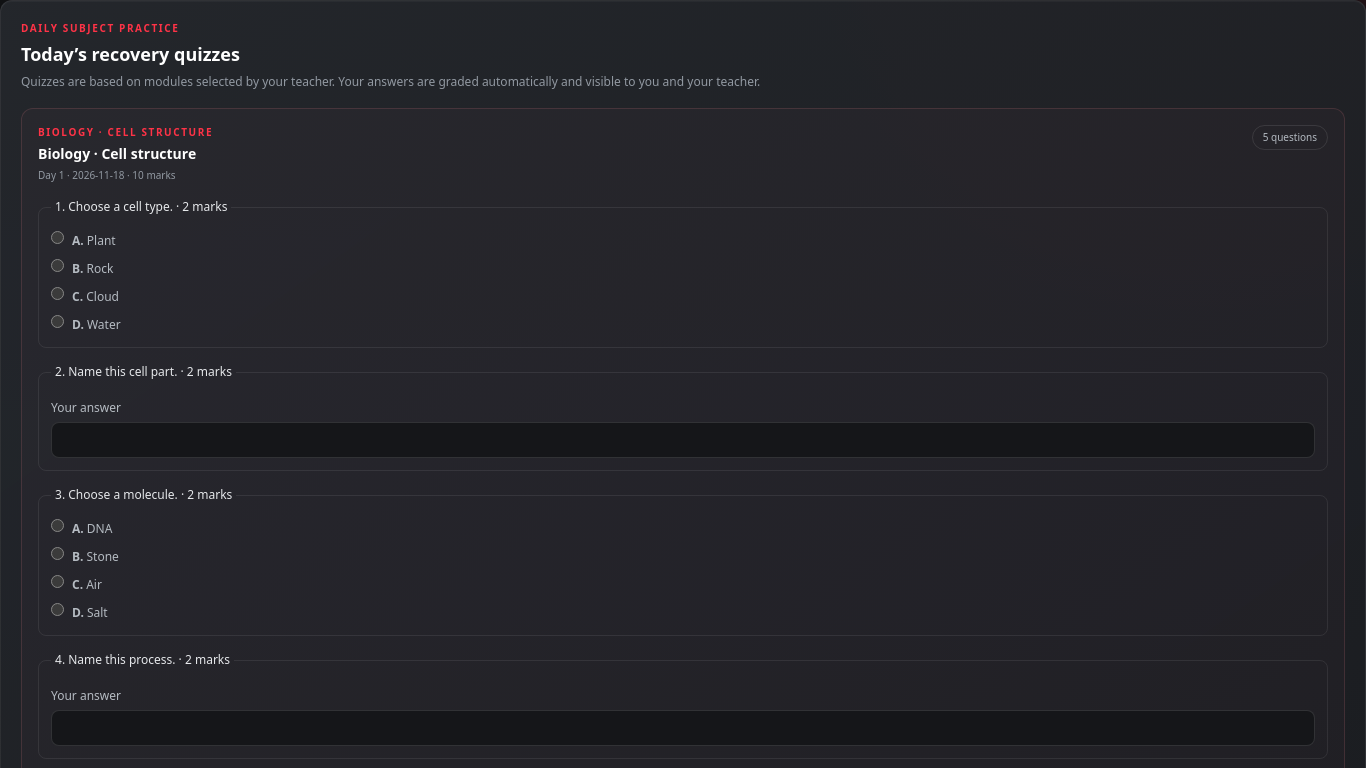
Scenario: student daily recovery quizzes › loads due quizzes, submits answers, and displays the saved auto-grade
The image size is (1366, 768).
Check: the heading "Today’s recovery quizzes" is shown, box [21,42,240,66]
Click the radio button labelled "A. Plant". click: point(58, 238)
box: [51,231,64,244]
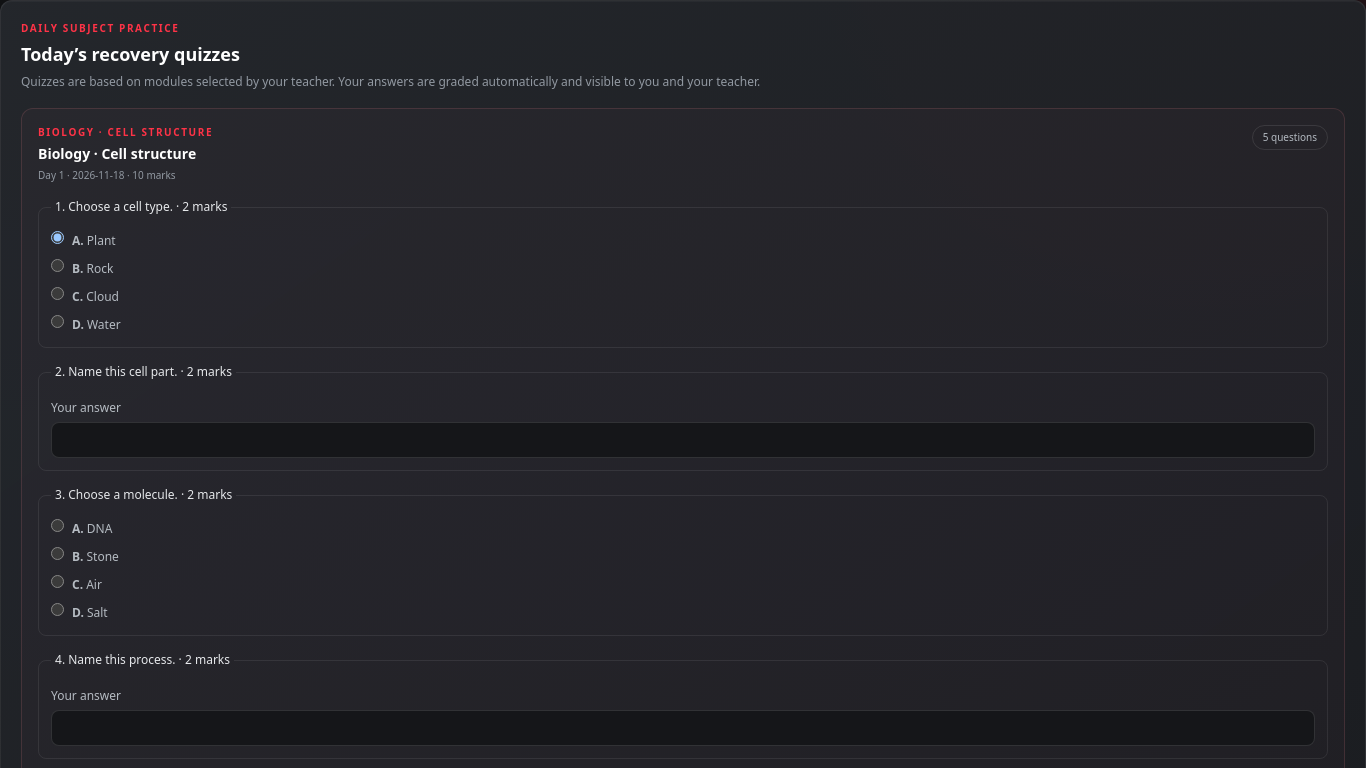
Type "Nucleus" into the field labelled "Your answer" below "Name this cell part.". click: point(683, 440)
box: [51,422,1315,458]
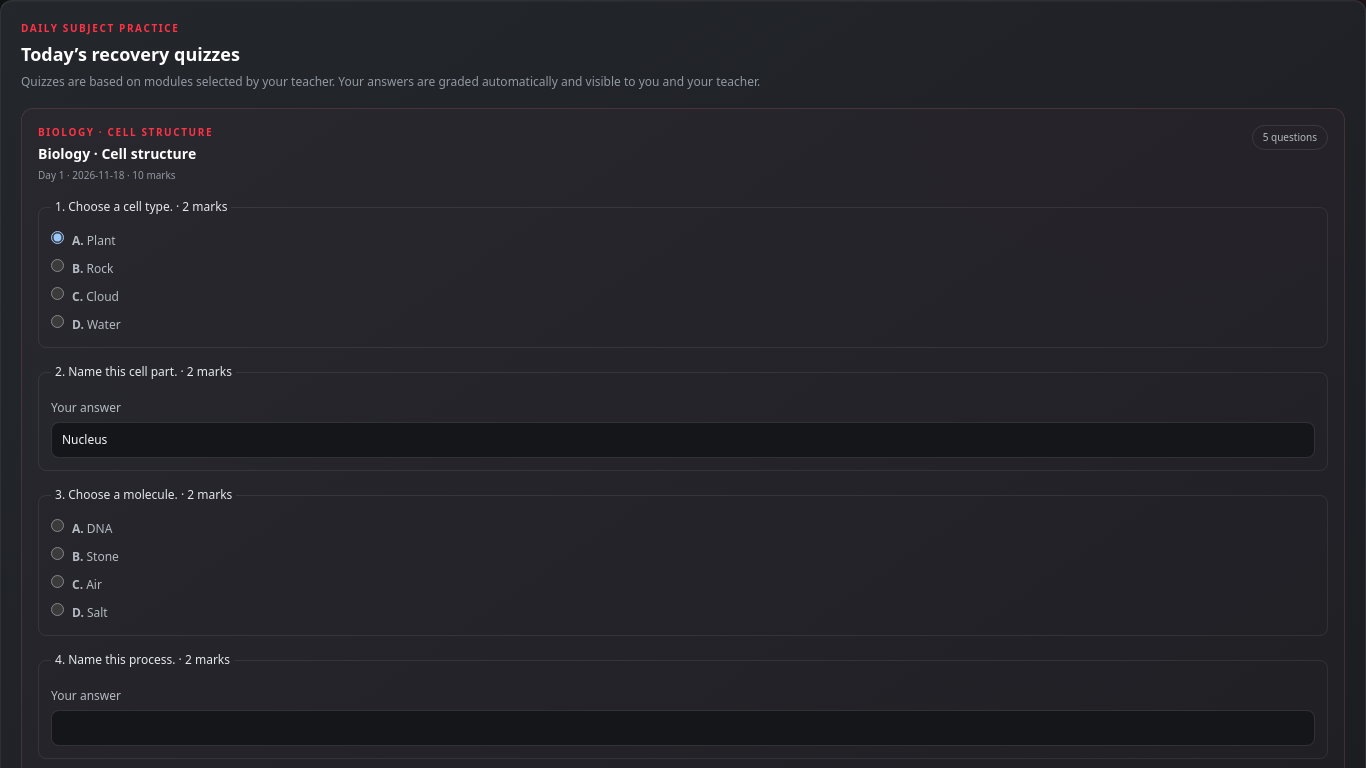
Click the radio button labelled "A. DNA". click: point(58, 526)
box: [51,519,64,532]
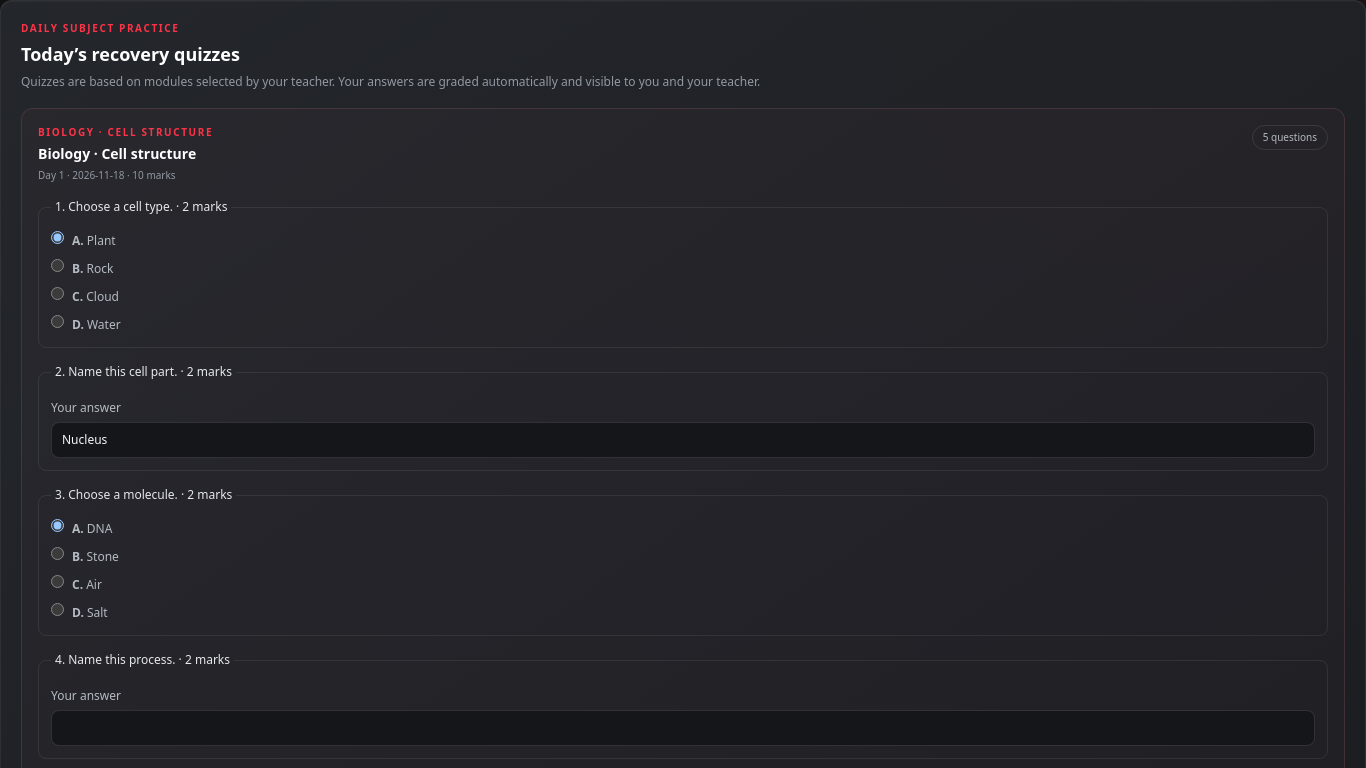
Type "Mitosis" into the field labelled "Your answer" below "Name this process.". click: point(683, 728)
box: [51,710,1315,746]
(page scrolled)
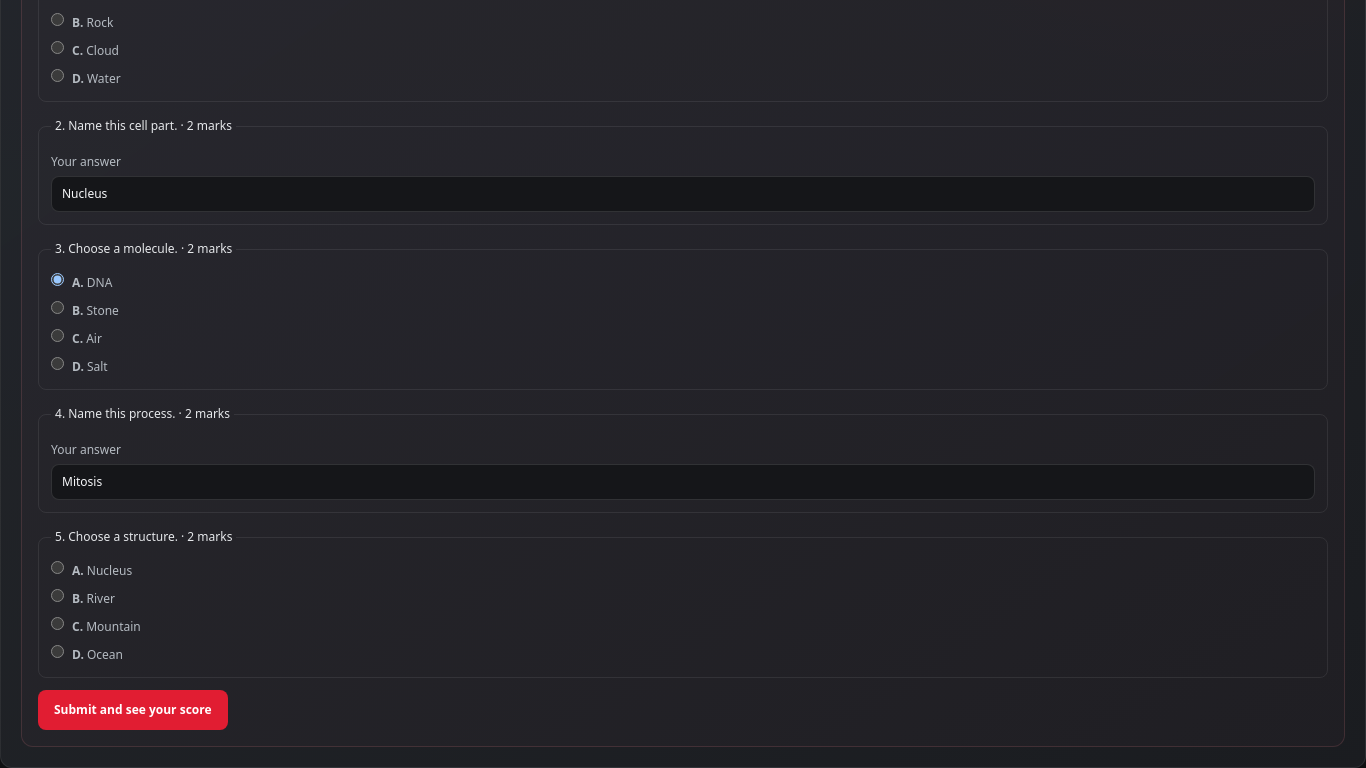
Click the radio button labelled "A. Nucleus". click: point(58, 568)
box: [51,561,64,574]
(page scrolled)
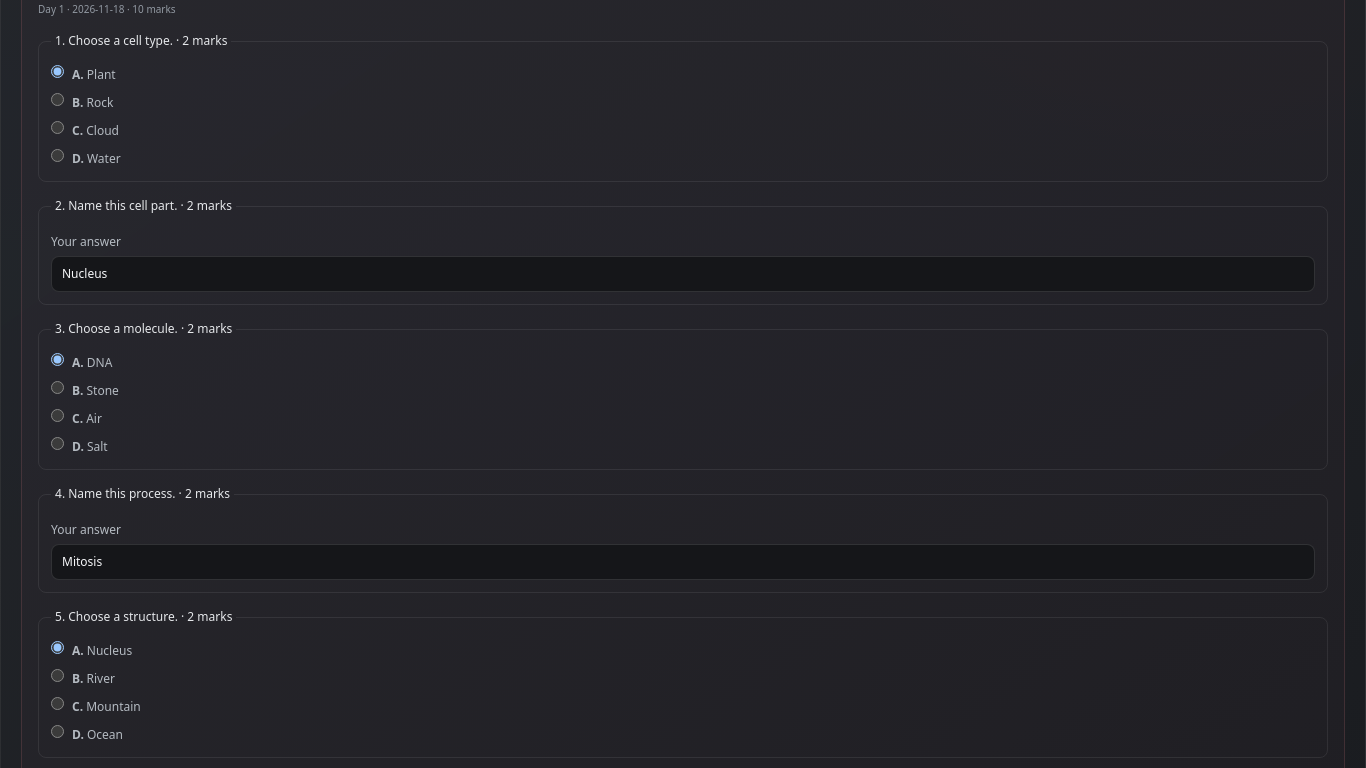
Submit the form "Biology · Cell structure"
(page scrolled)
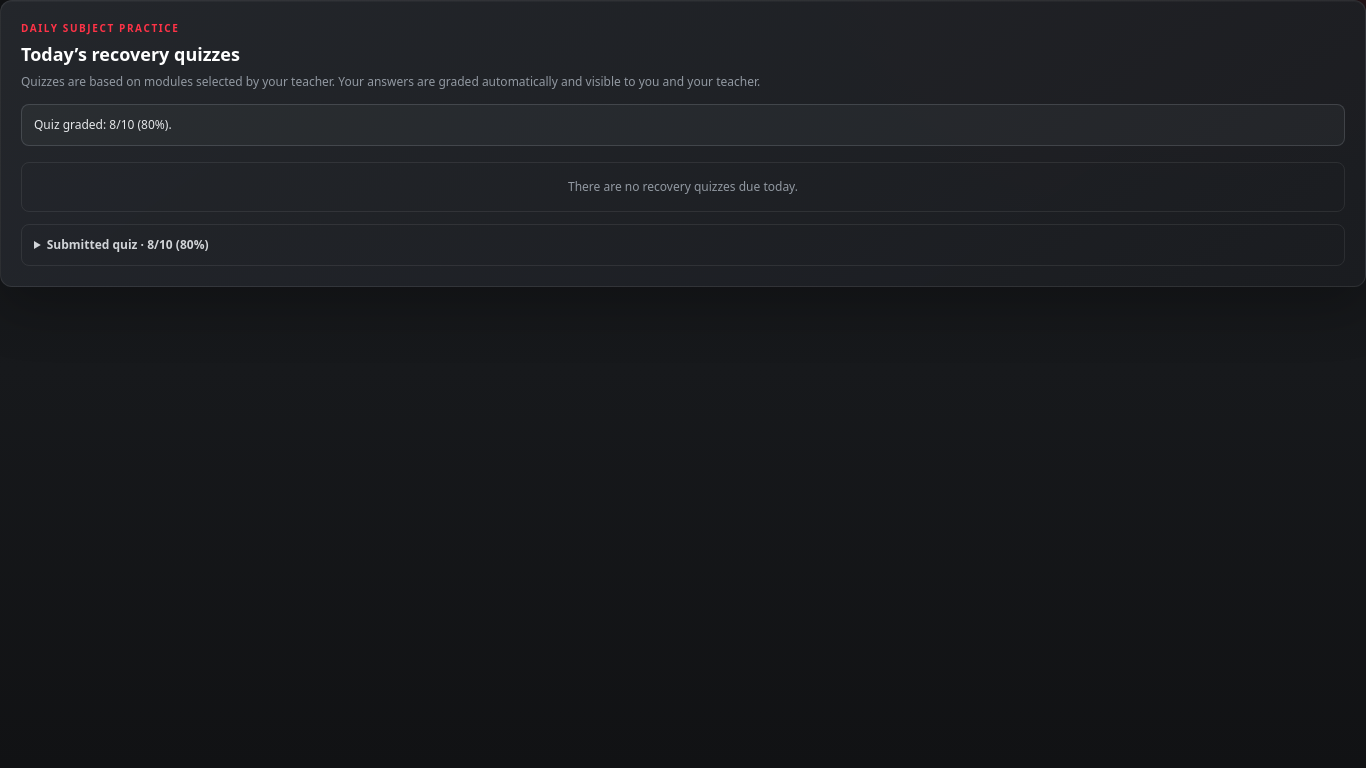
Check: the message reads "Quiz graded: 8/10 (80%).", box [34,116,172,133]
Check: the heading "Submitted quiz · 8/10 (80%)" is shown, box [47,236,208,253]
